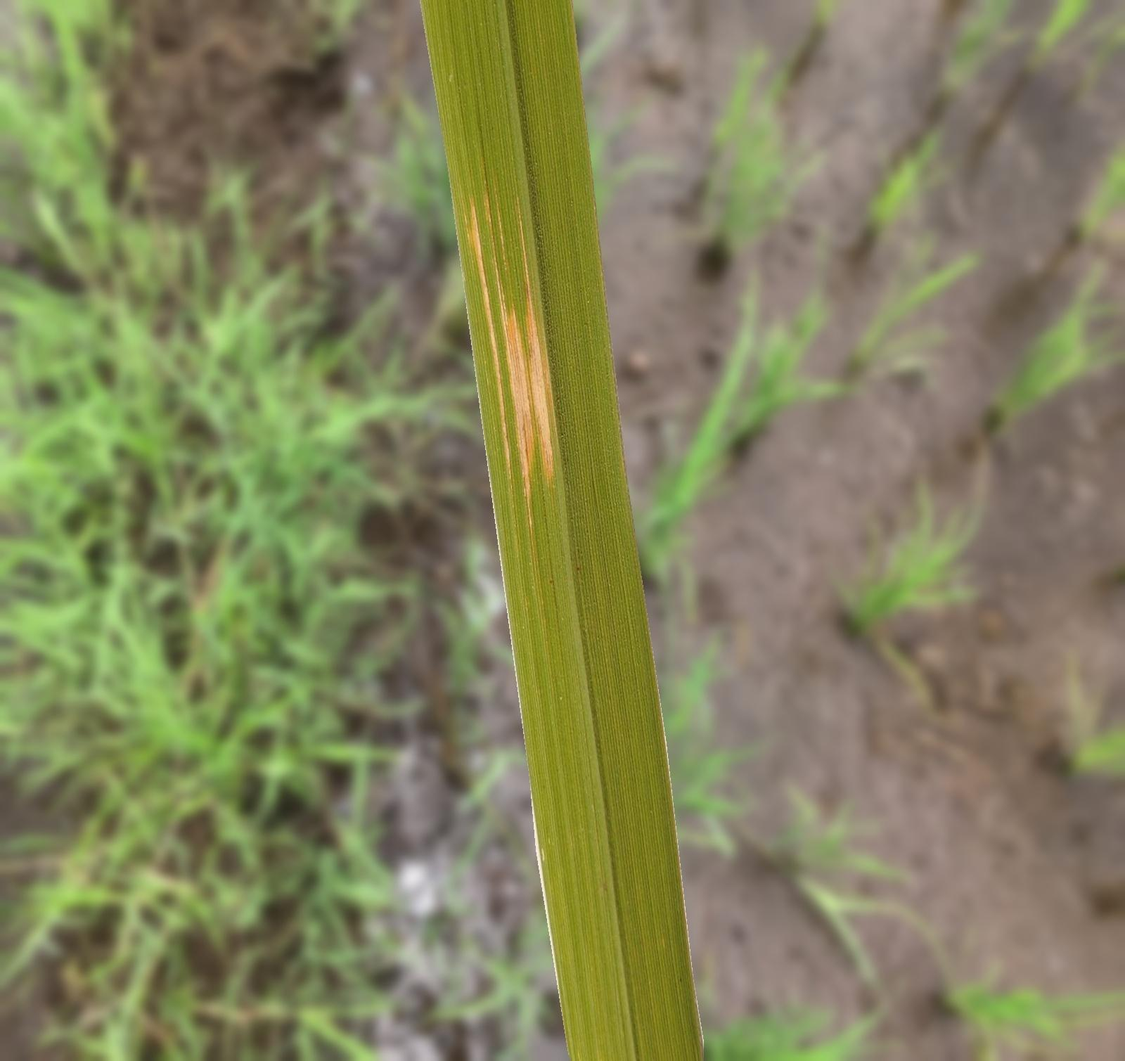BLS: (482, 193, 555, 532), (464, 197, 514, 484), (493, 185, 507, 273)
LEAF: (420, 0, 703, 1060)
